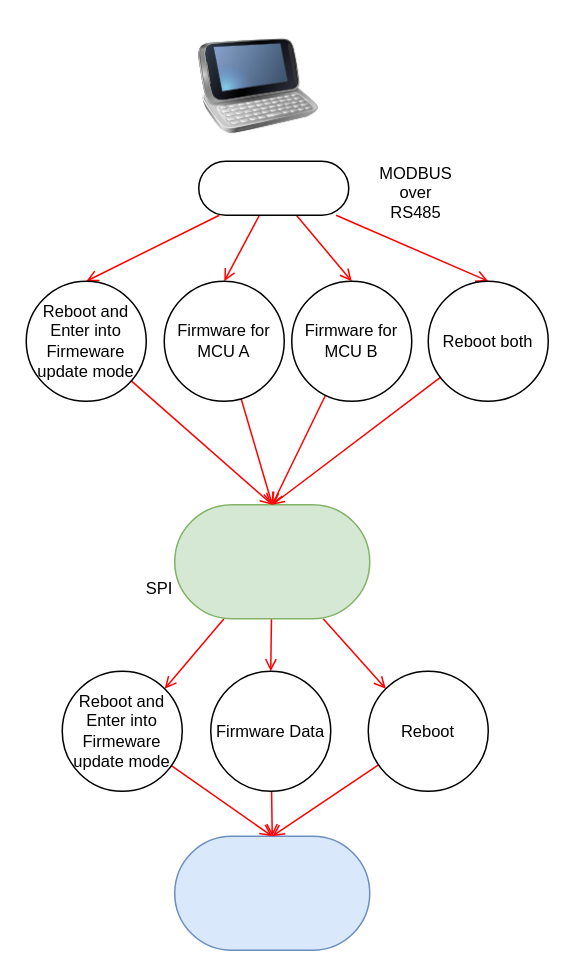
Some shapes in this 575 by 977 pixel diagram are drawn without their labels. The shapes that lost their labels are listed below. From the top down, each one's centre as x and y in pixels, then its label:
At point (273, 187): "PC/Laptop".
At point (271, 561): "MCU A".
At point (271, 892): "MCU B".
